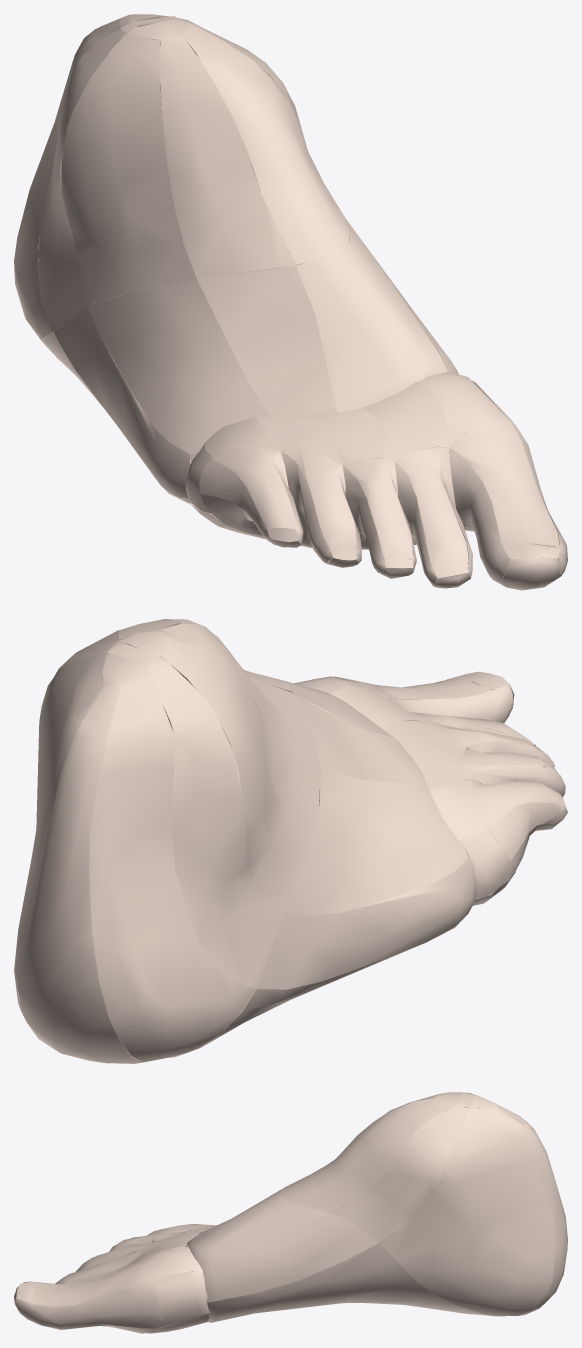
File: foot_visual.dae
3 renders of one model, top to bottom at view 1: azimuth 30°, elevation 25°; view 2: azimuth 150°, elevation 25°; view 3: azimuth 270°, elevation 25°, orthographic. The views are drawn at different scales.
Parts seen in each view (by area): view 1: mesh_1_foot; view 2: mesh_1_foot; view 3: mesh_1_foot.
Boxes of the visible parts, x1,y1,x2,y2 form: mesh_1_foot: (14, 14, 567, 590); mesh_1_foot: (14, 619, 567, 1063); mesh_1_foot: (14, 1092, 567, 1333).
Size of the model in its own units: 0.0899 by 0.254 by 0.1112.
